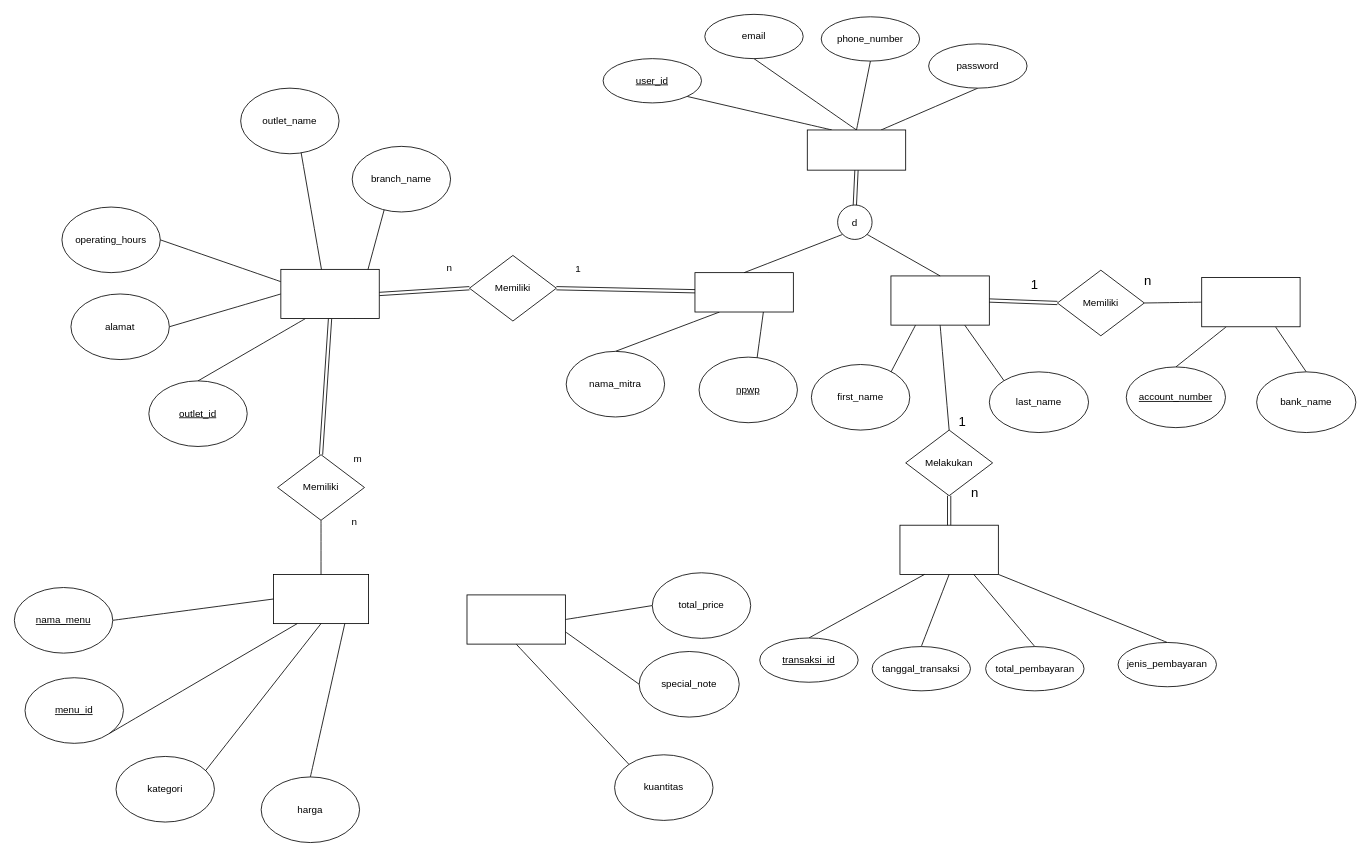
Some shapes in this 1370 by 857 pixel diagram are drawn without their labels. The shapes that lost their labels are listed below. From the top down, each one's centre as x and y in pixels, then its label:
pixel 856 149: User
pixel 329 294: Outlet
pixel 743 292: Mitra
pixel 939 300: Customer
pixel 1250 302: Bank Account
pixel 948 549: Transaksi
pixel 321 599: Menu
pixel 515 619: Order
